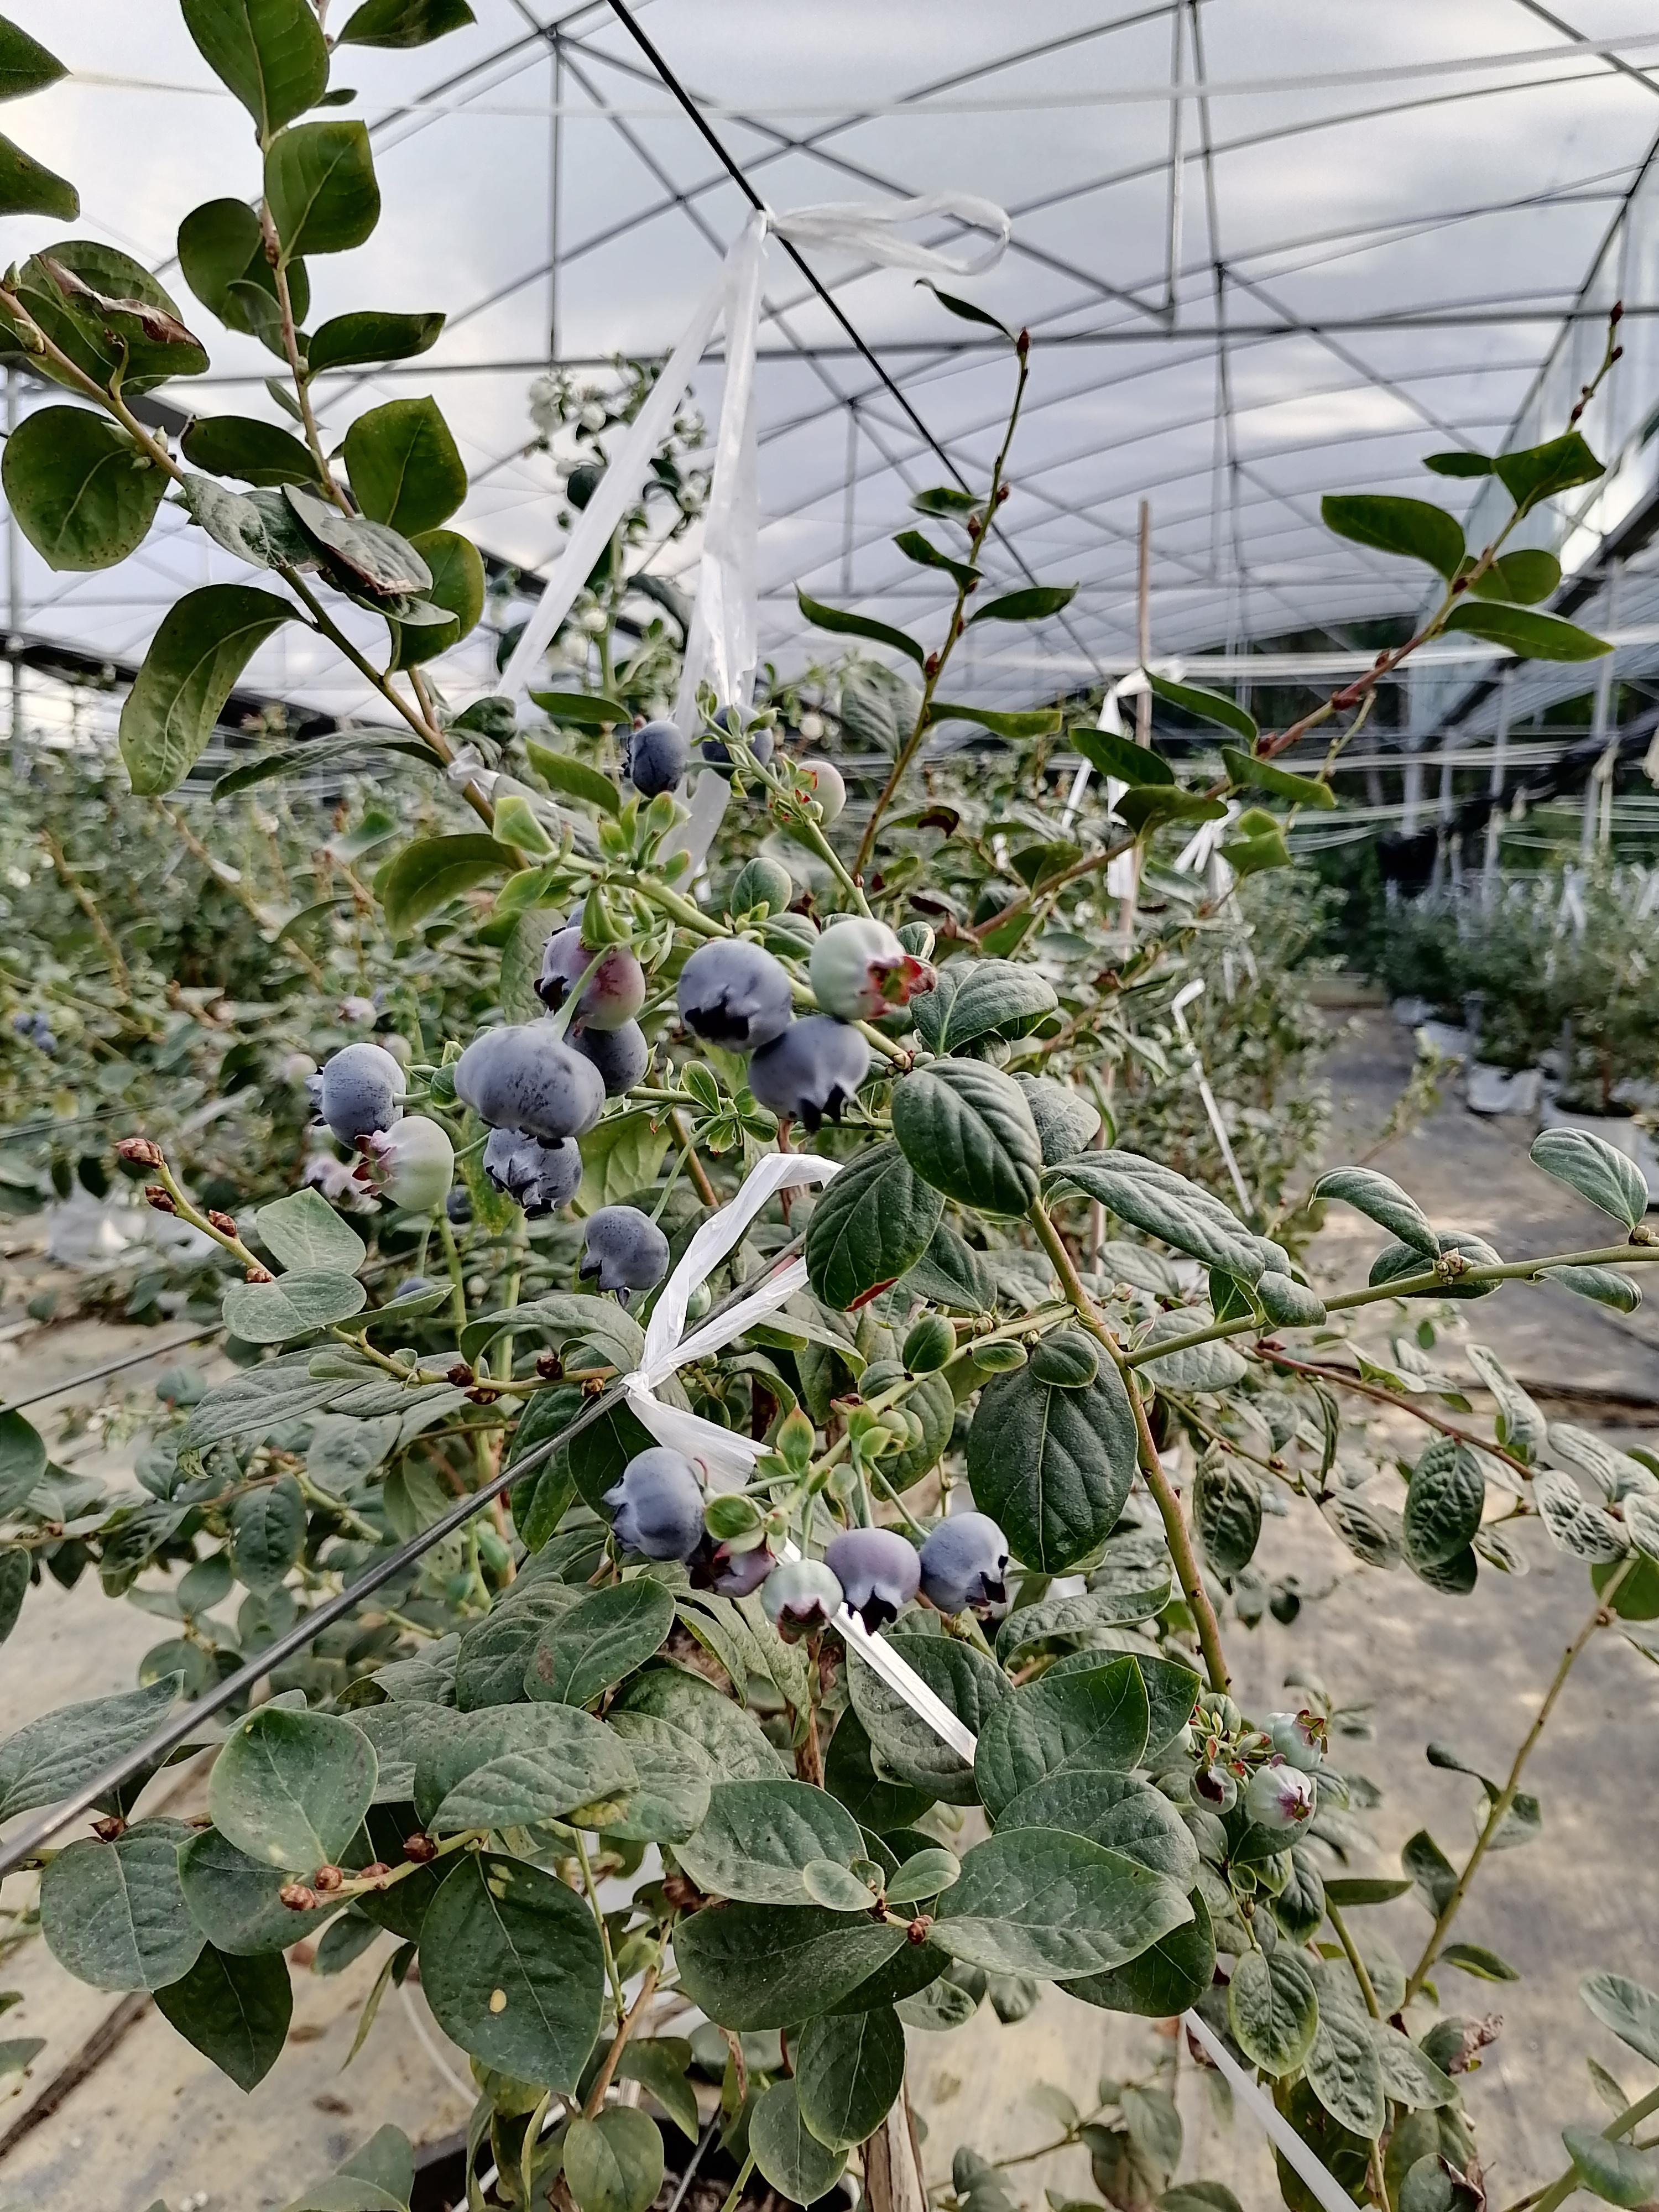ripe-blueberries: (451, 1026, 606, 1150), (748, 1012, 868, 1136), (676, 937, 793, 1054), (601, 1447, 706, 1564), (310, 1045, 406, 1157), (823, 1527, 922, 1634), (917, 1512, 1009, 1616), (481, 1125, 582, 1219), (577, 1207, 669, 1294), (565, 1021, 647, 1099), (702, 704, 774, 779), (629, 721, 690, 799)
